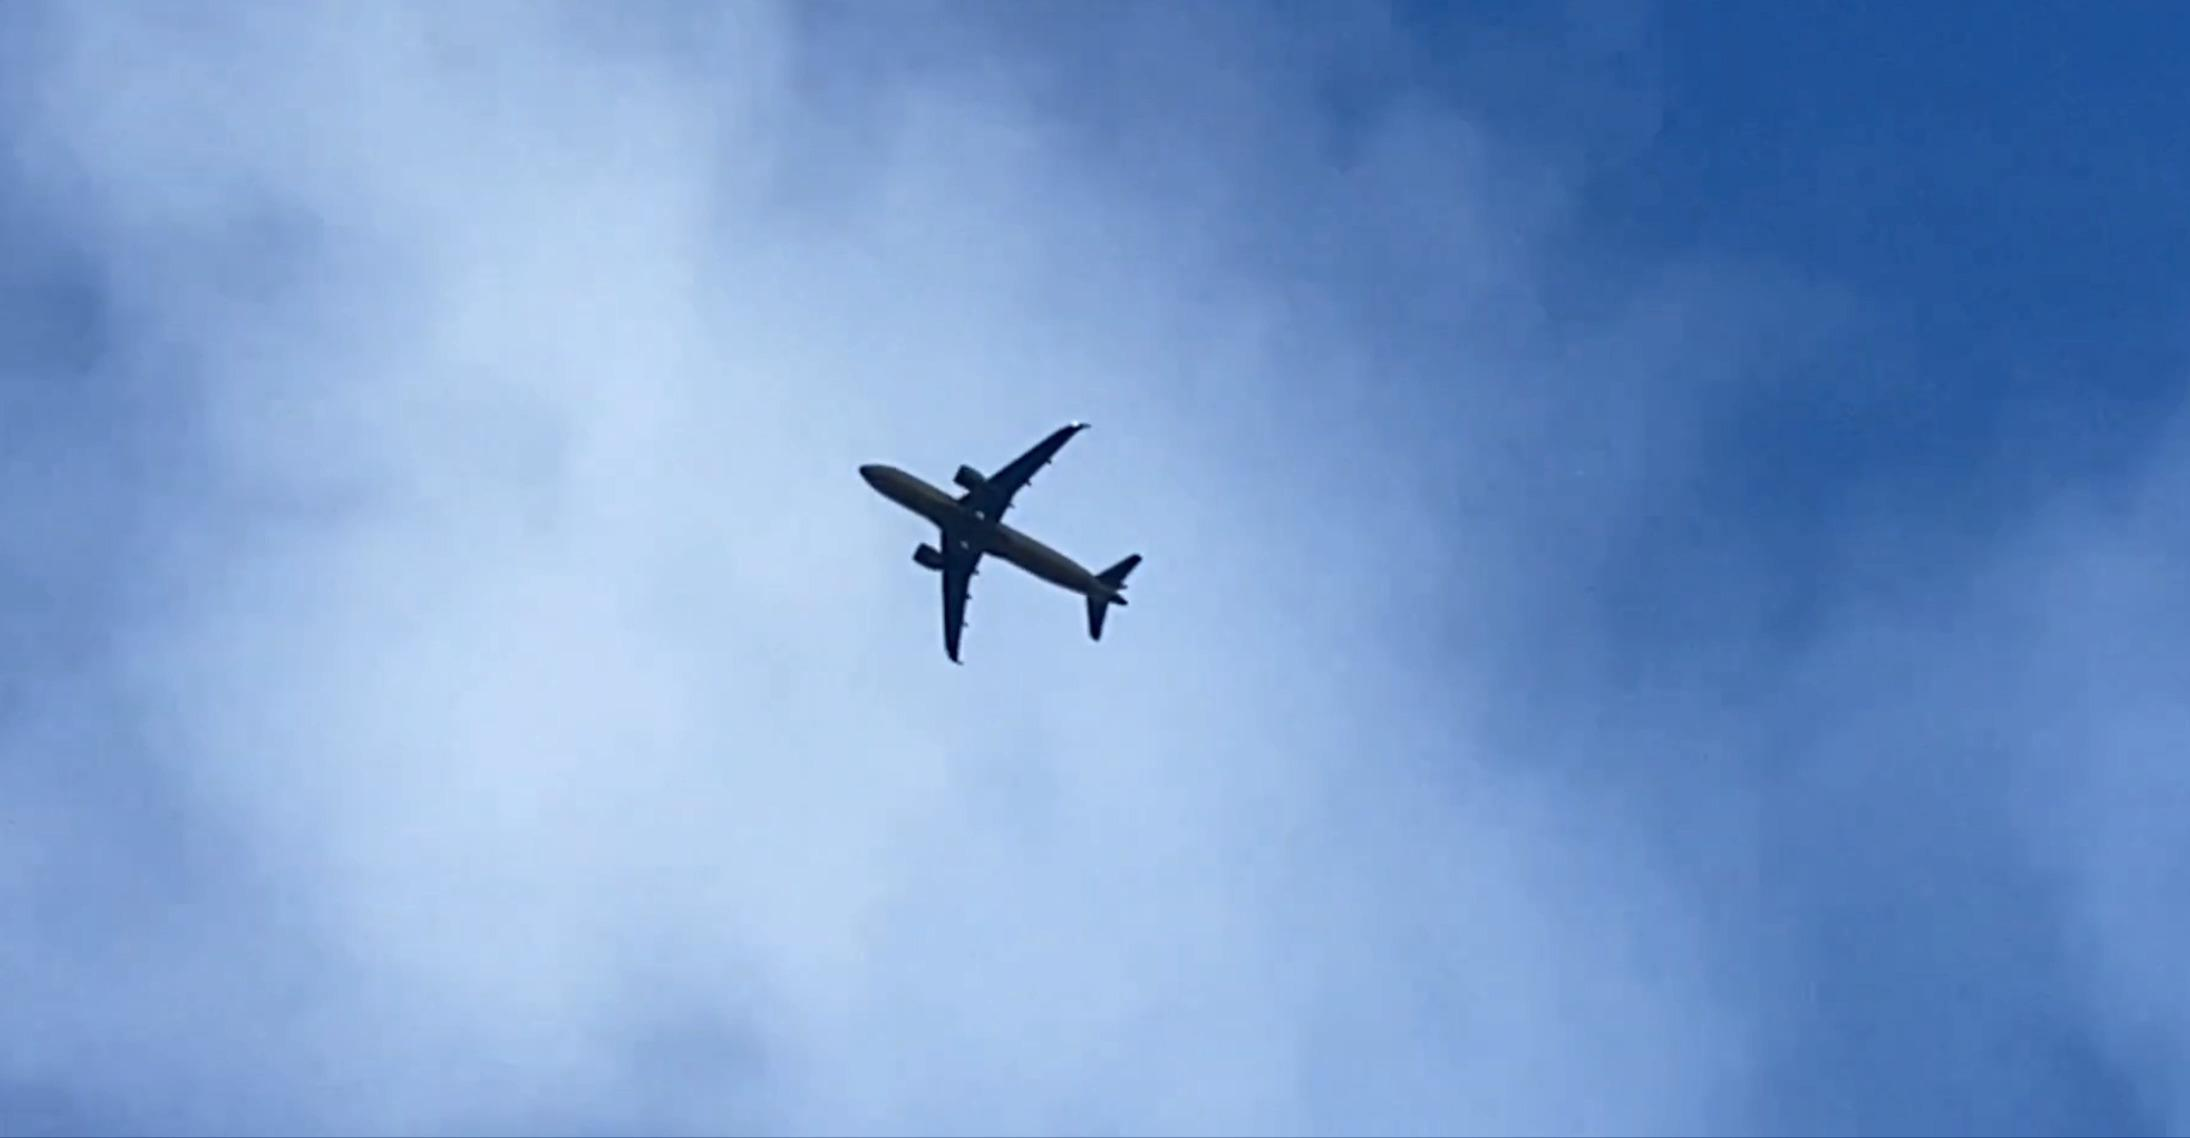Plane: (737, 375, 1272, 676)
